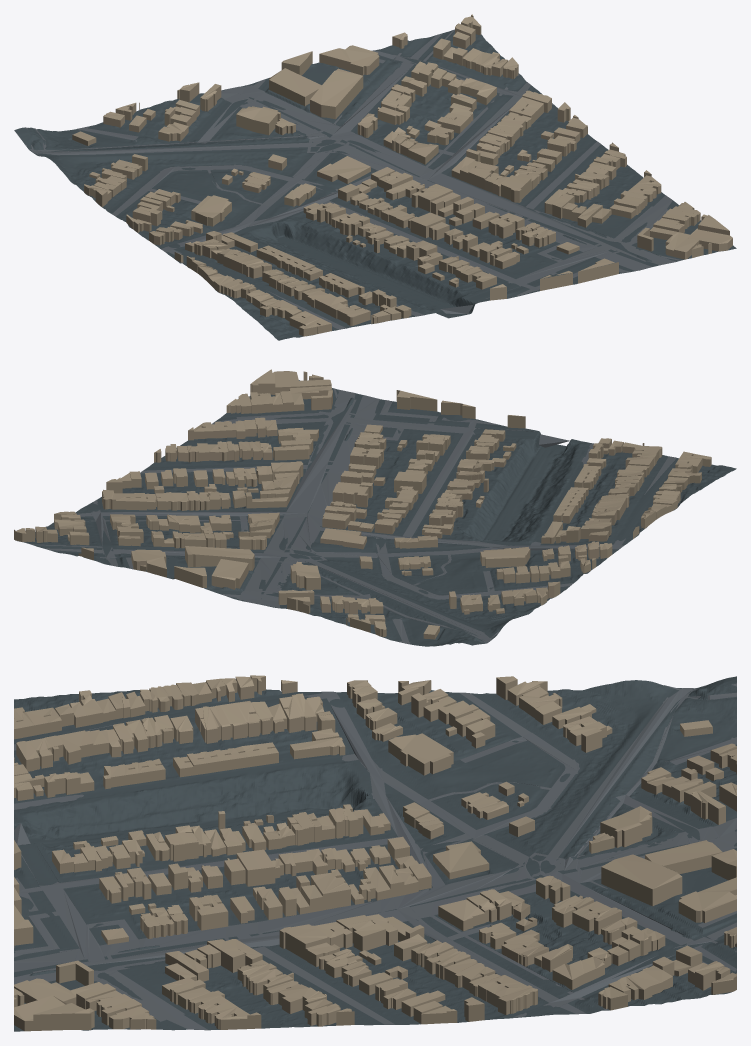
The model's file is epsg26910-1440-10872.lod0.glb.
The picture shows the model from 3 angles, top to bottom: view 1: azimuth 30°, elevation 25°; view 2: azimuth 150°, elevation 25°; view 3: azimuth 270°, elevation 25°; orthographic projection. The views are drawn at different scales.
Parts seen in each view (by area): view 1: epsg26910-1440-10872-lod0; view 2: epsg26910-1440-10872-lod0; view 3: epsg26910-1440-10872-lod0.
Boxes of the visible parts, x1,y1,x2,y2 form: epsg26910-1440-10872-lod0: (14, 14, 736, 340); epsg26910-1440-10872-lod0: (14, 369, 736, 646); epsg26910-1440-10872-lod0: (14, 675, 736, 1031).
Bounding box in the file's own units: 384 × 35.27 × 384.
